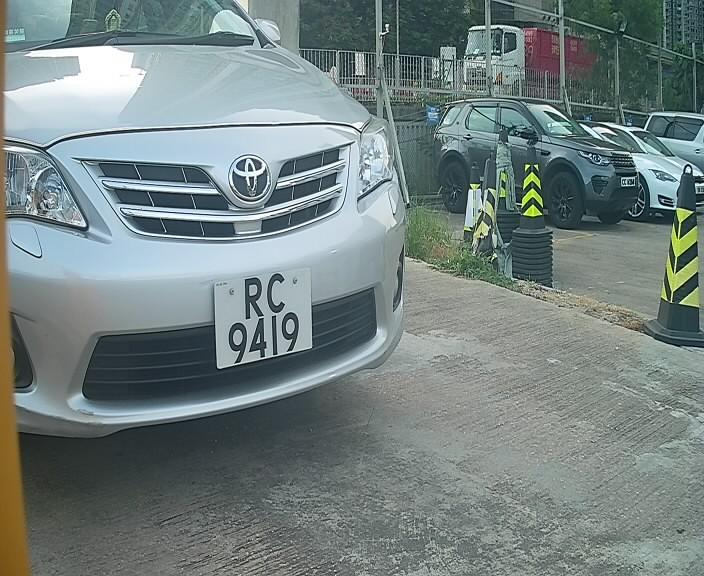License Plate: (205, 258, 318, 381)
